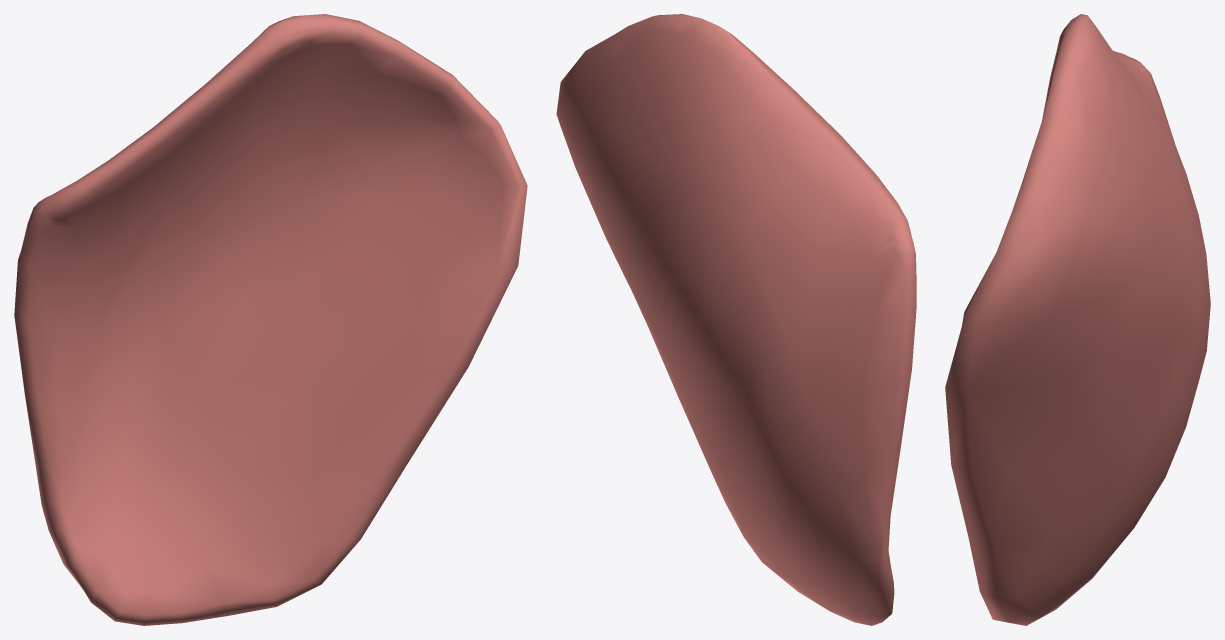
3 renders of one model, left to right at view 1: azimuth 30°, elevation 25°; view 2: azimuth 150°, elevation 25°; view 3: azimuth 270°, elevation 25°, orthographic. The views are drawn at different scales.
Parts seen in each view (by area): view 1: ZA_647b714906ca990c; view 2: ZA_647b714906ca990c; view 3: ZA_647b714906ca990c.
Part boxes in pixels (box(x1,y1,x2,y2)): ZA_647b714906ca990c: box(14, 14, 527, 625); ZA_647b714906ca990c: box(556, 14, 916, 625); ZA_647b714906ca990c: box(945, 14, 1210, 625).
Bounding box in the file's own units: 0.00834 × 0.0105 × 0.00395.
